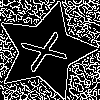X: (21, 26, 77, 73)
